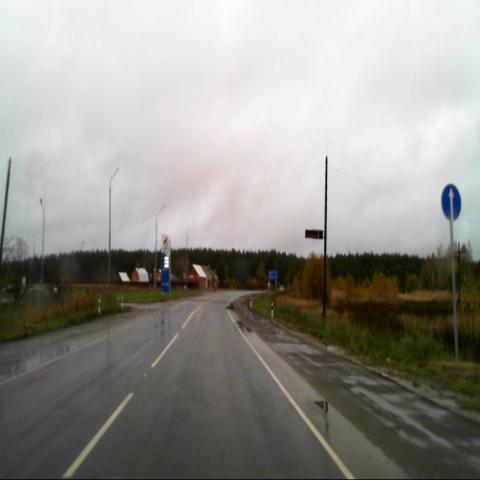4_1_1: (440, 182, 462, 220)
